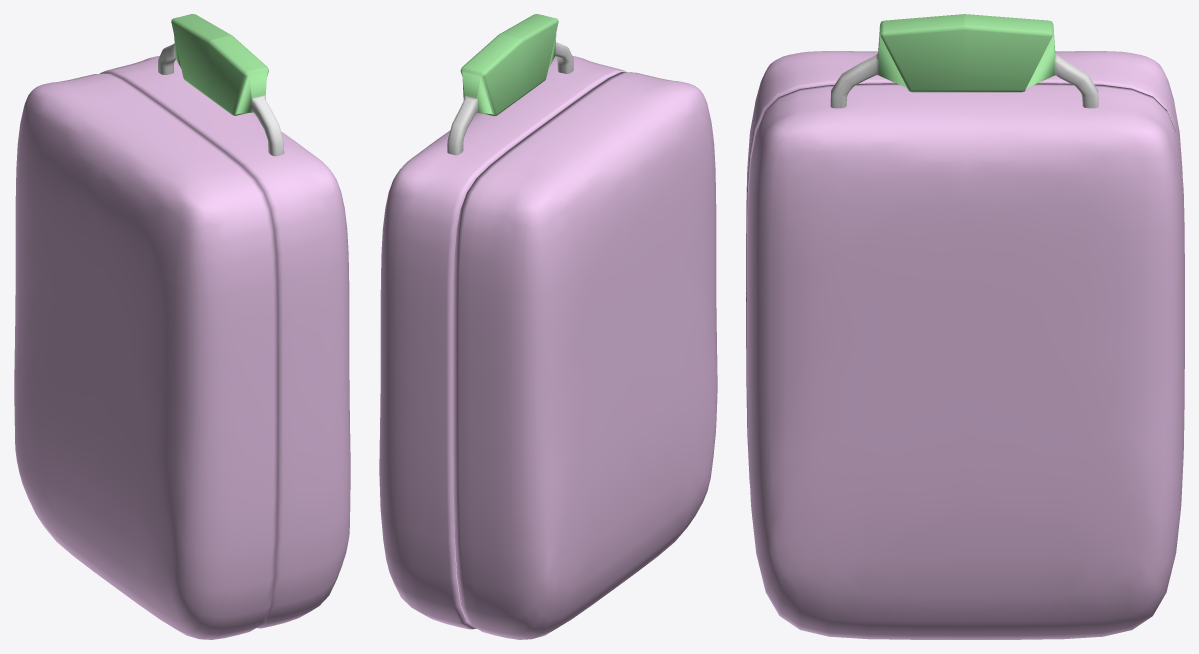
Rendered from NewBigBox1.fbx.
3 views of the same model, side by side, from view 1: azimuth 30°, elevation 25°; view 2: azimuth 150°, elevation 25°; view 3: azimuth 270°, elevation 25° (orthographic). The views are drawn at different scales.
Parts seen in each view (by area): view 1: VelikaKutijaR.001, VelikaKutijaR.004, Cube.052; view 2: VelikaKutijaR.001, VelikaKutijaR.004, Cube.052; view 3: VelikaKutijaR.004, Cube.052, VelikaKutijaR.001.
Part boxes in pixels (<box>): VelikaKutijaR.001: <box>14,73,278,639</box>; VelikaKutijaR.004: <box>100,56,350,628</box>; Cube.052: <box>158,14,284,156</box>; VelikaKutijaR.001: <box>453,72,717,639</box>; VelikaKutijaR.004: <box>379,56,627,629</box>; Cube.052: <box>447,14,573,155</box>; VelikaKutijaR.004: <box>747,83,1184,639</box>; Cube.052: <box>830,14,1098,108</box>; VelikaKutijaR.001: <box>746,51,1182,483</box>.
Bounding box in the file's own units: 0.8622 × 2.49 × 1.6.
